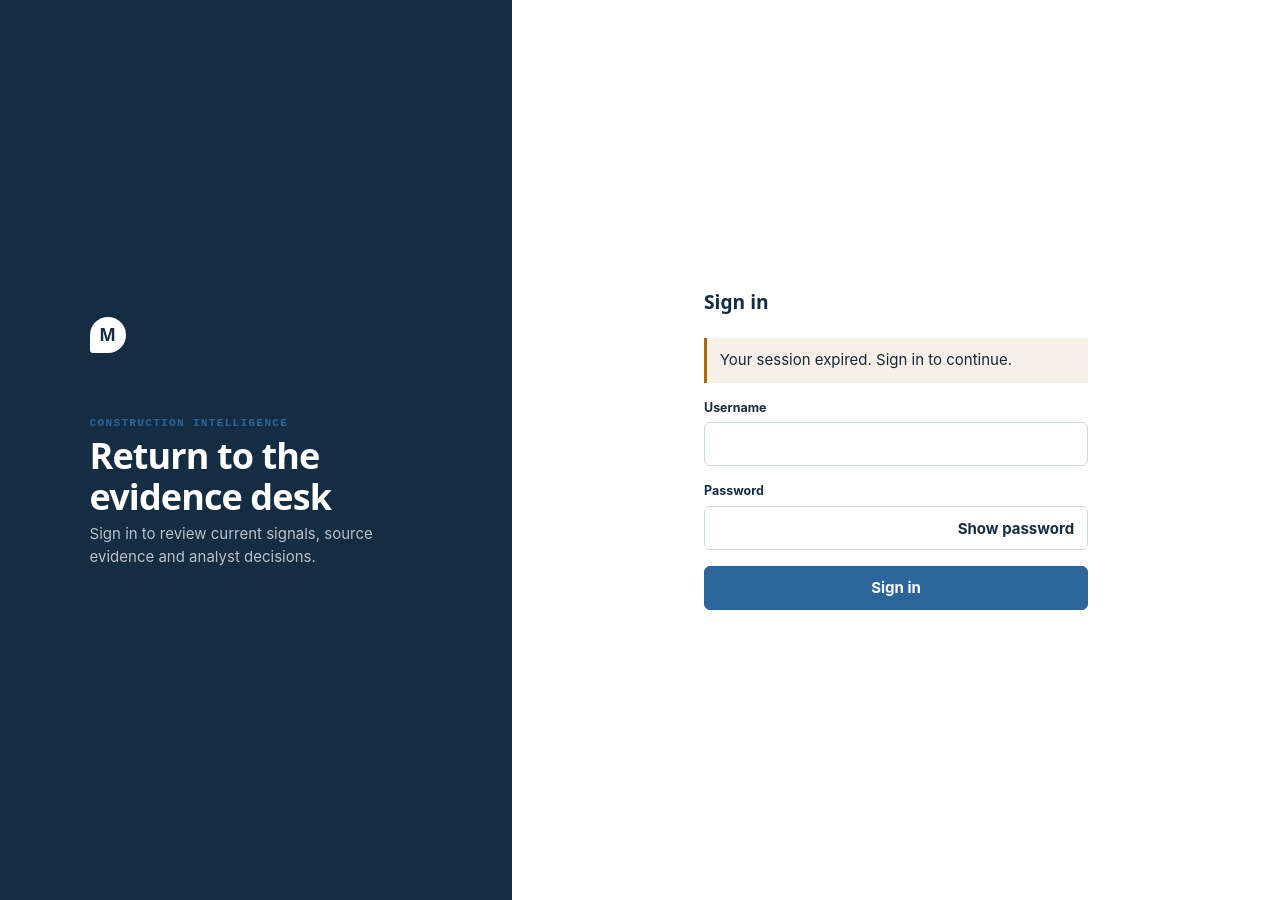
analyst desk interactions › recovers from auth expiry and returns to the intended route
Expected: the text "Your session expired. Sign in to continue." is shown, [704,338,1088,383]
In the field labelled "Username": (896, 444) [704,422,1088,466], type "synthetic.analyst"
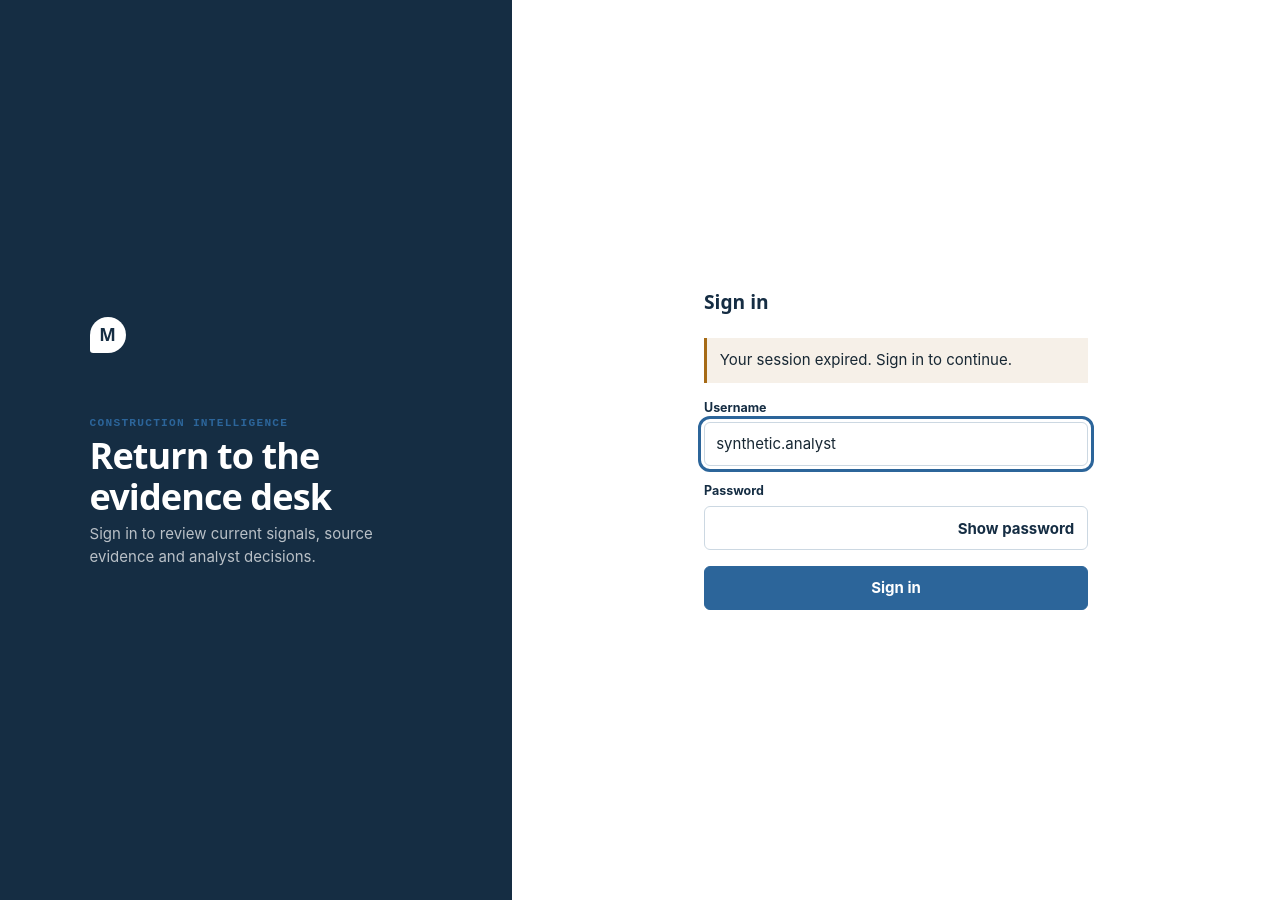
In the password field labelled "Password": (896, 528) [704,506,1088,550], type "synthetic-password"
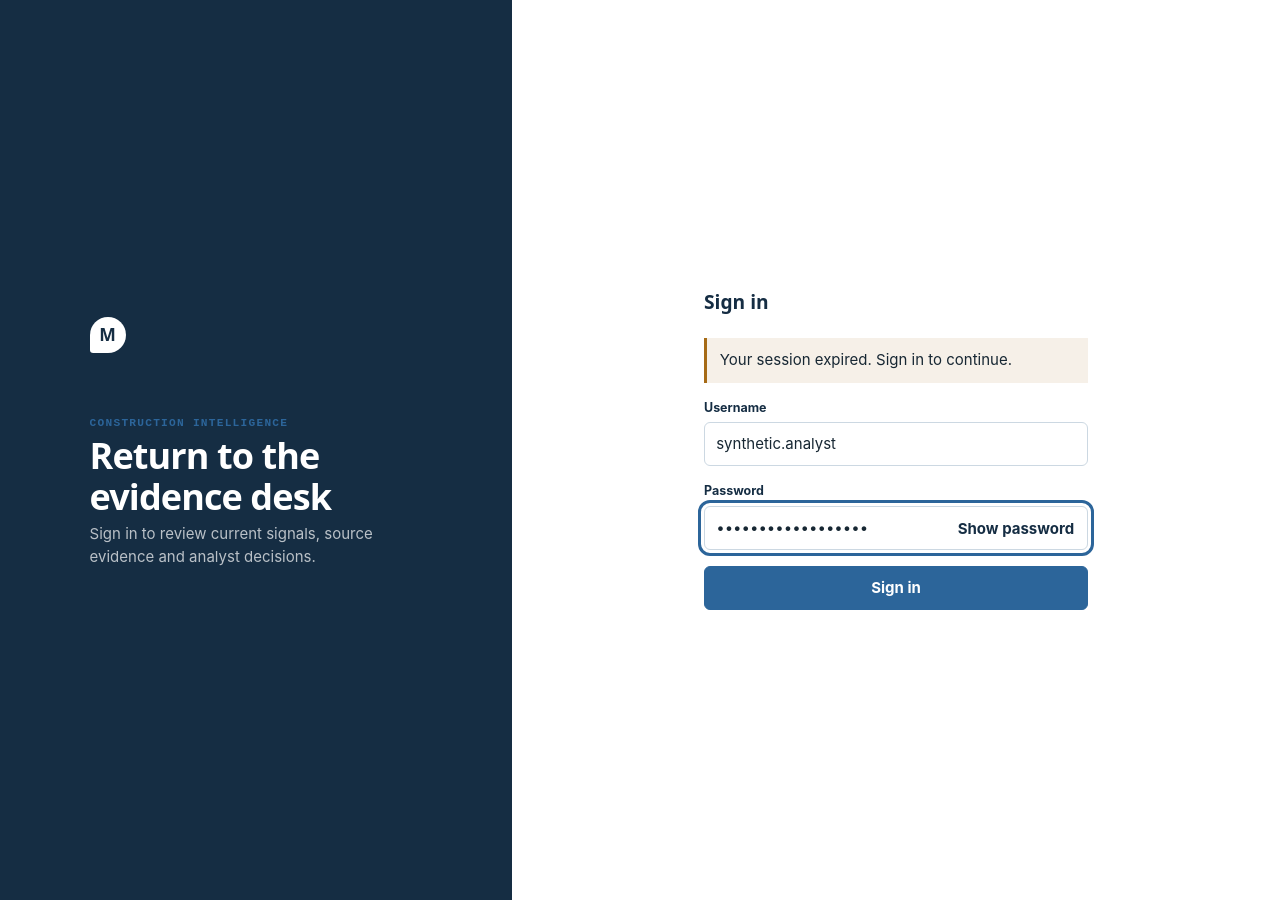
Click the button "Sign in": (896, 588) [704,566,1088,610]
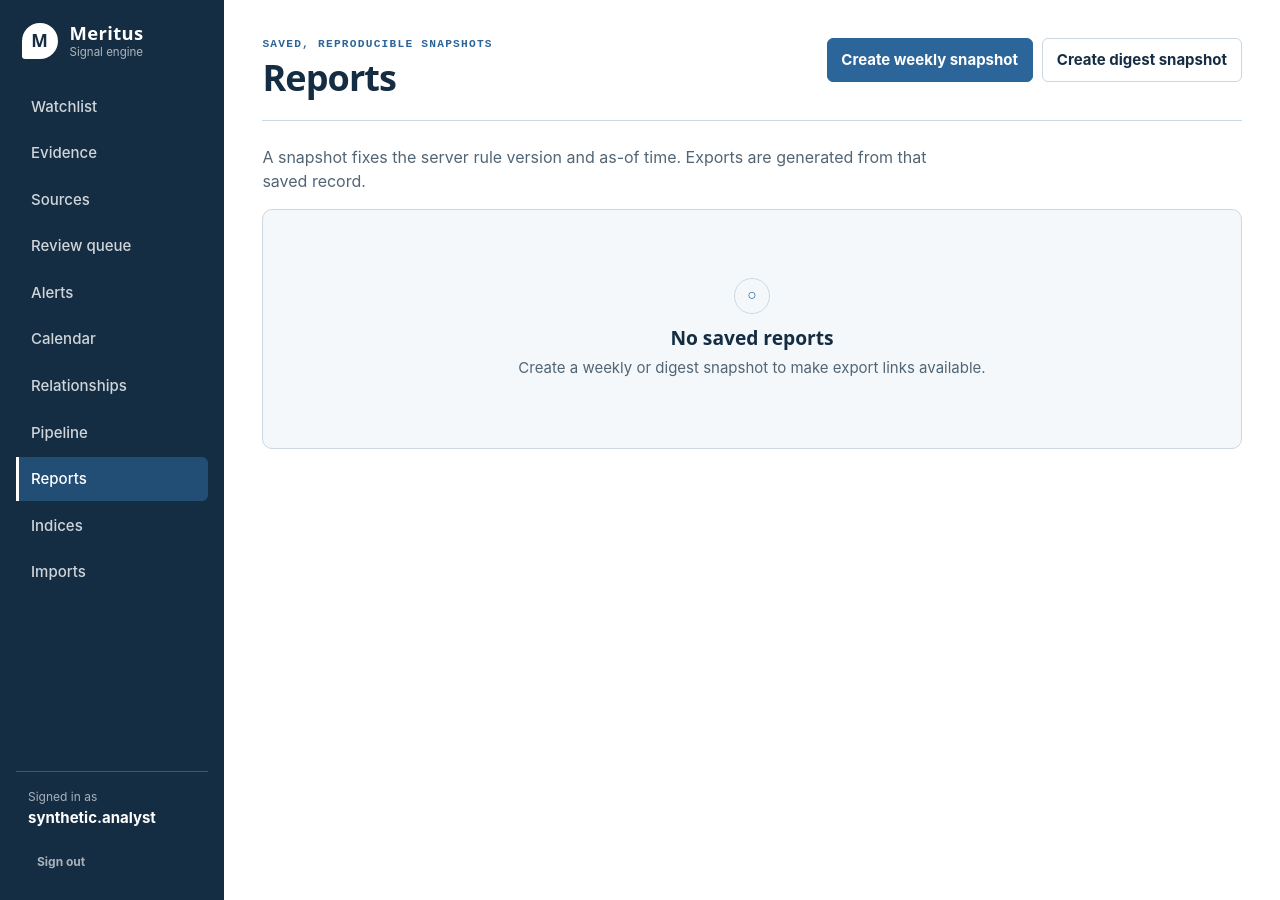
Expected: the heading "Reports" is shown, [262,53,396,102]
